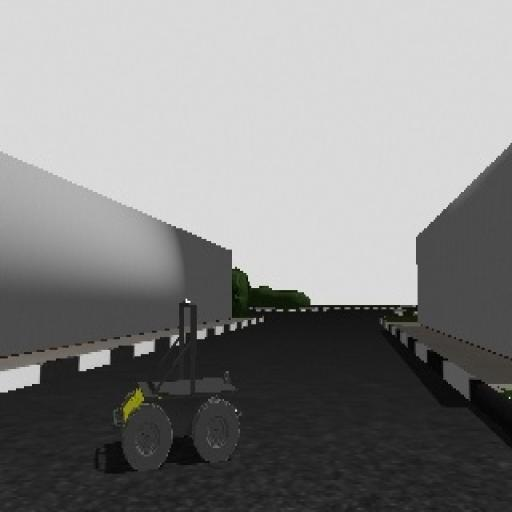huskya200: (91, 290, 251, 474)
